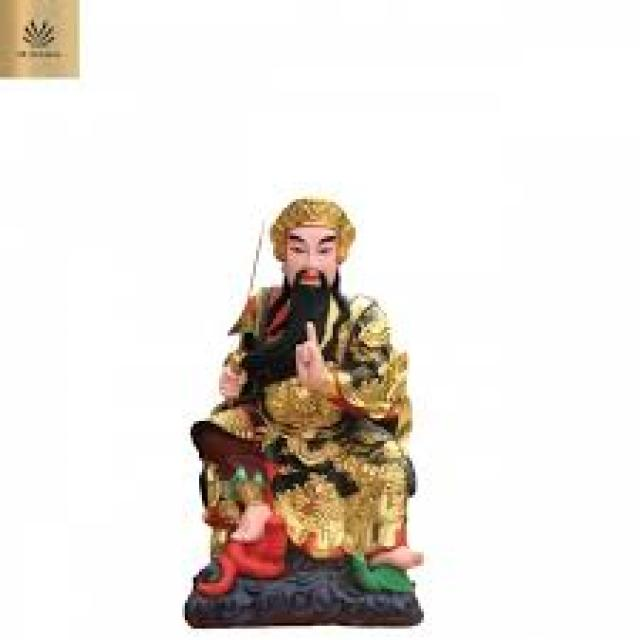Xuan wu: (200, 195, 412, 571)
